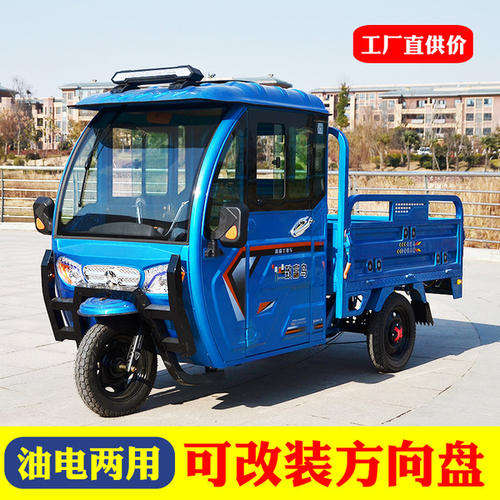tricycle: (33, 73, 458, 404)
